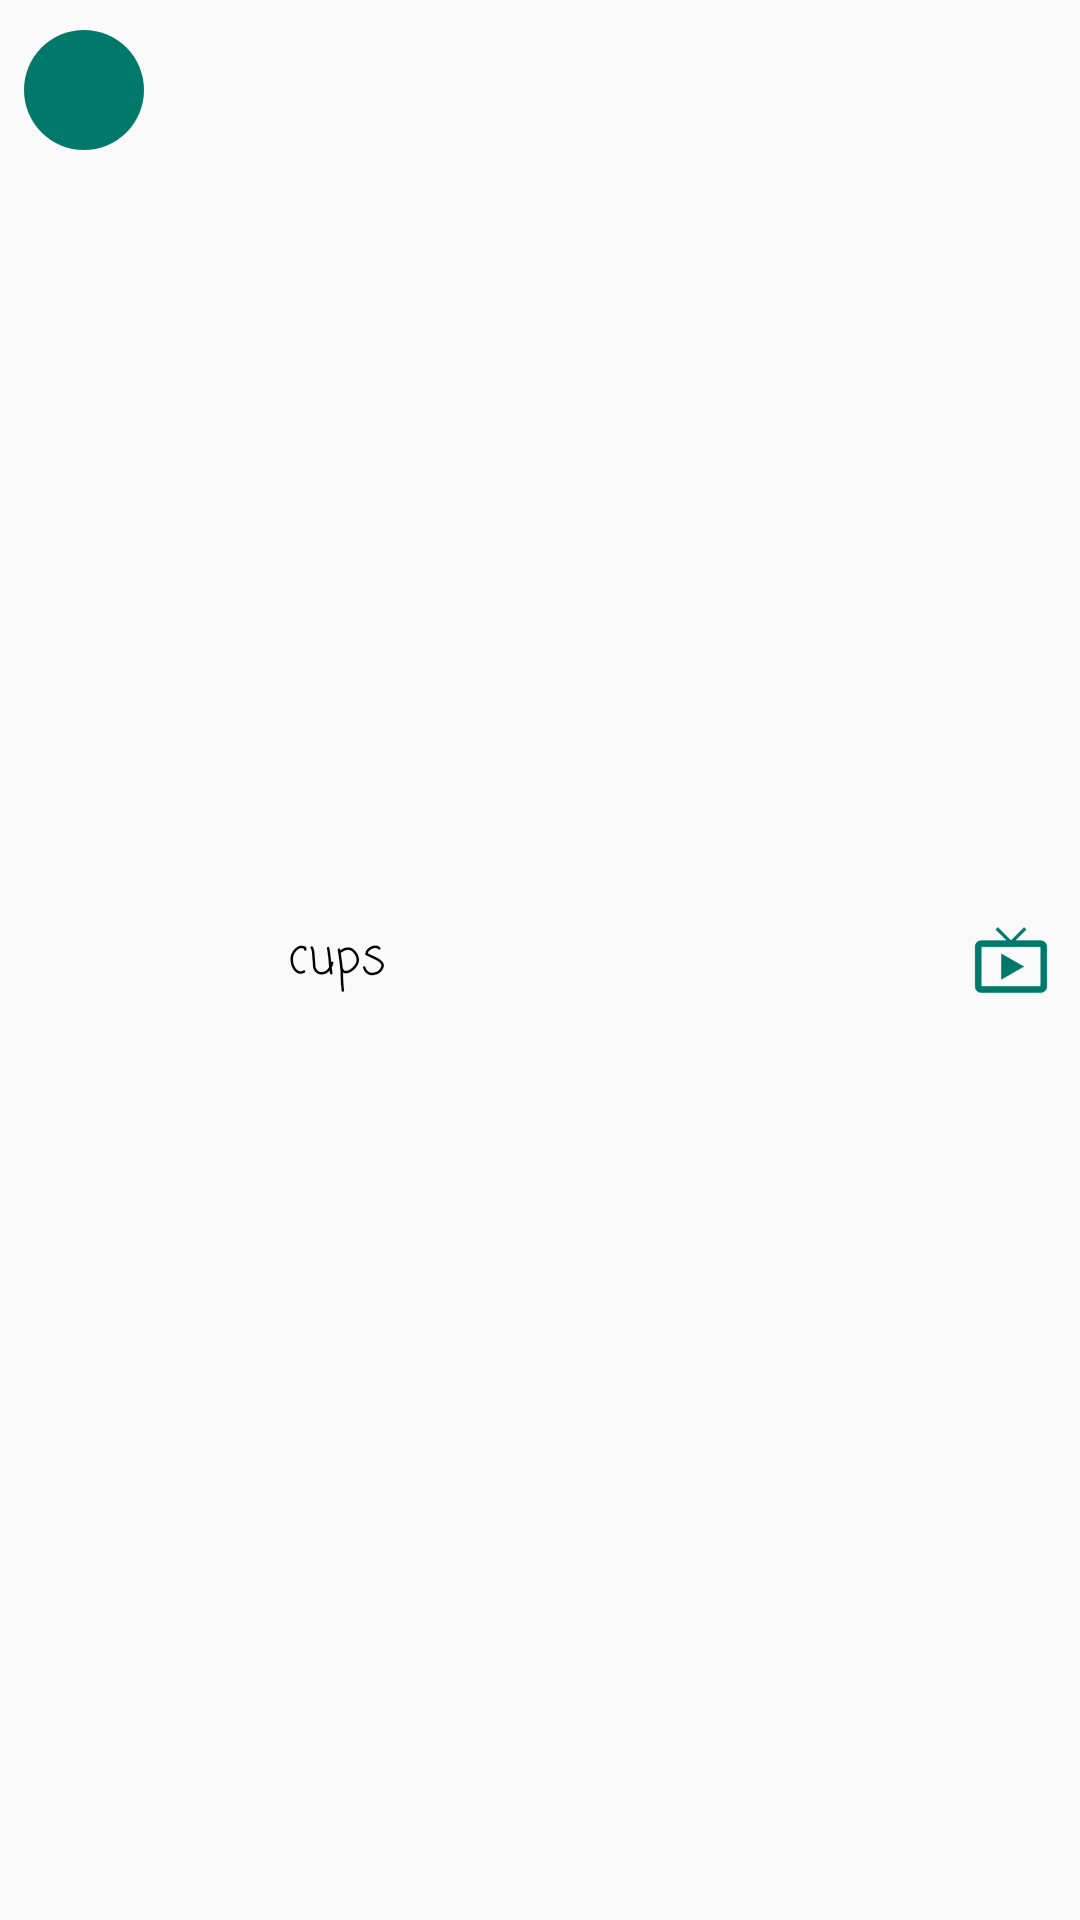

Screen size 1080×1920. Icon name, then its center in pixels as (x,y):
video: (1010,960)
